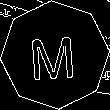M_N: (30, 28, 80, 82)
